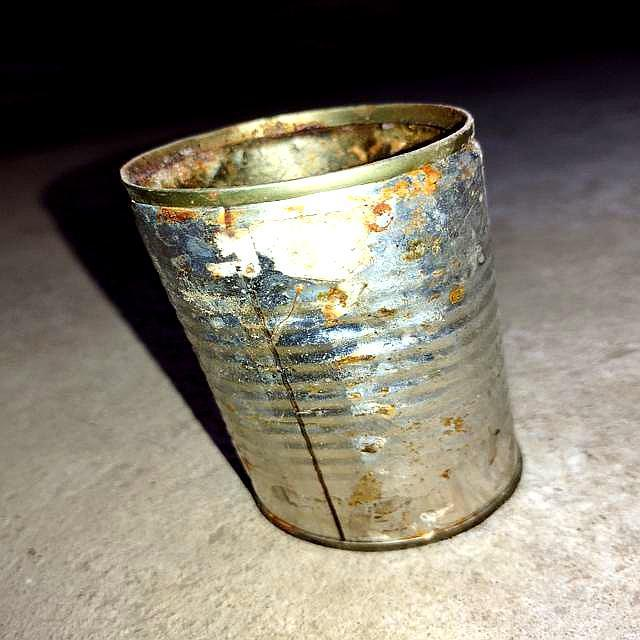Non-biodegradable: (119, 100, 526, 553)
